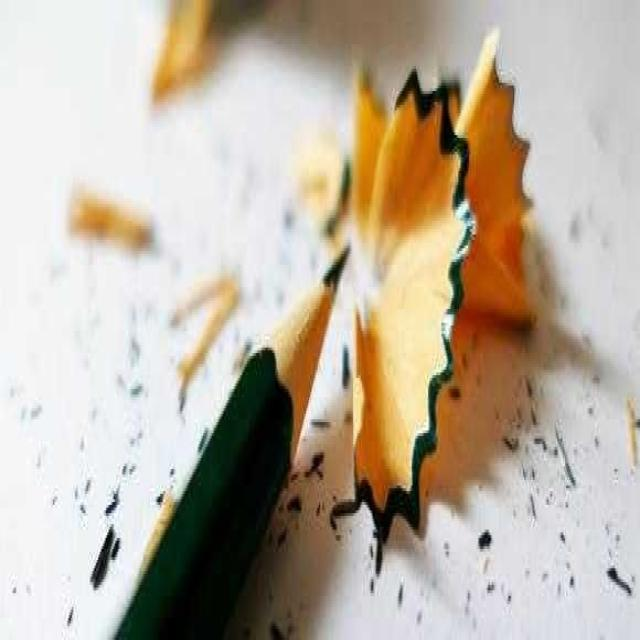pencil: (83, 200, 375, 637)
